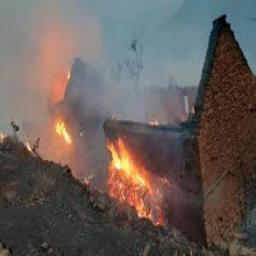Low smoke: (0, 0, 169, 133)
Medium fire: (50, 68, 177, 225)
